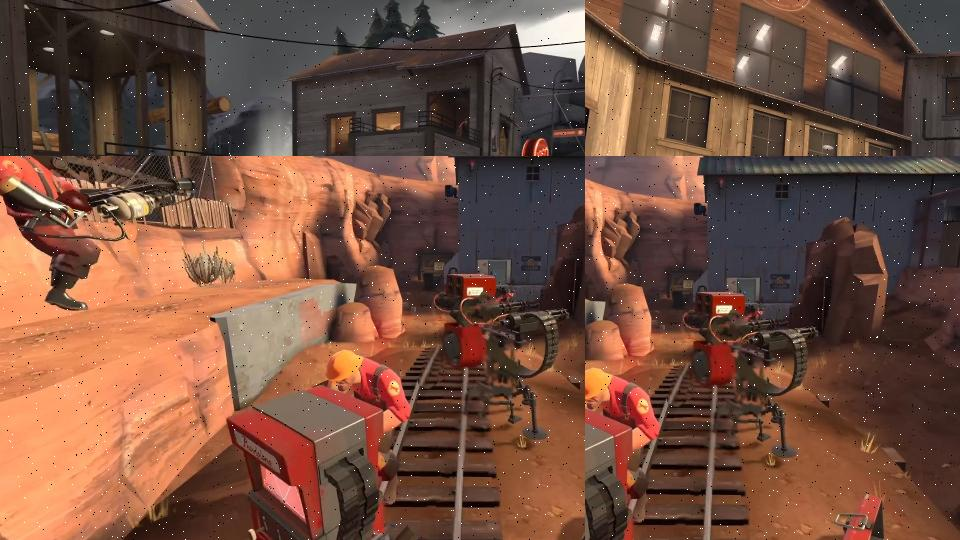Enemy: (0, 156, 202, 318), (310, 346, 409, 464), (585, 364, 657, 481)
